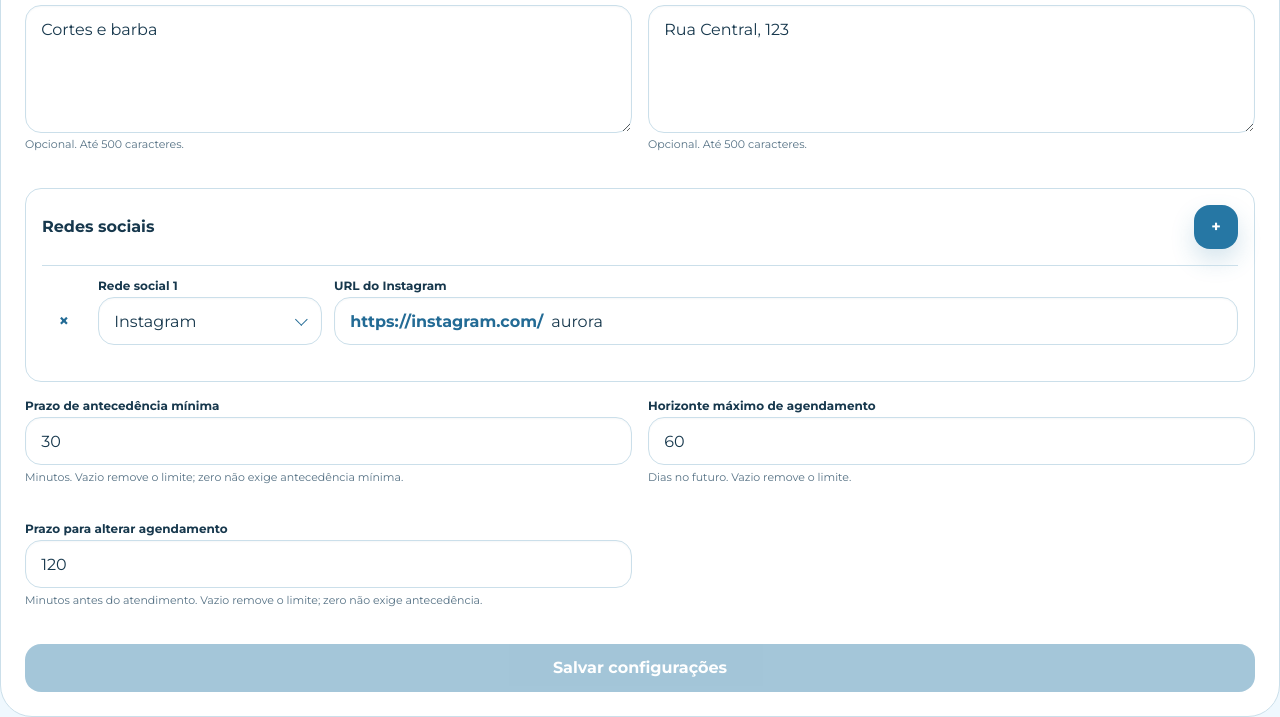
valida limite inteiro e URL HTTPS antes de enviar
(page scrolled)
Check: the text box labelled "Descrição" is shown, box [25,4,632,132]
Replace the text in the number field labelled "Horizonte máximo de agendamento" with "0" at (952, 441), box [648,417,1255,465]
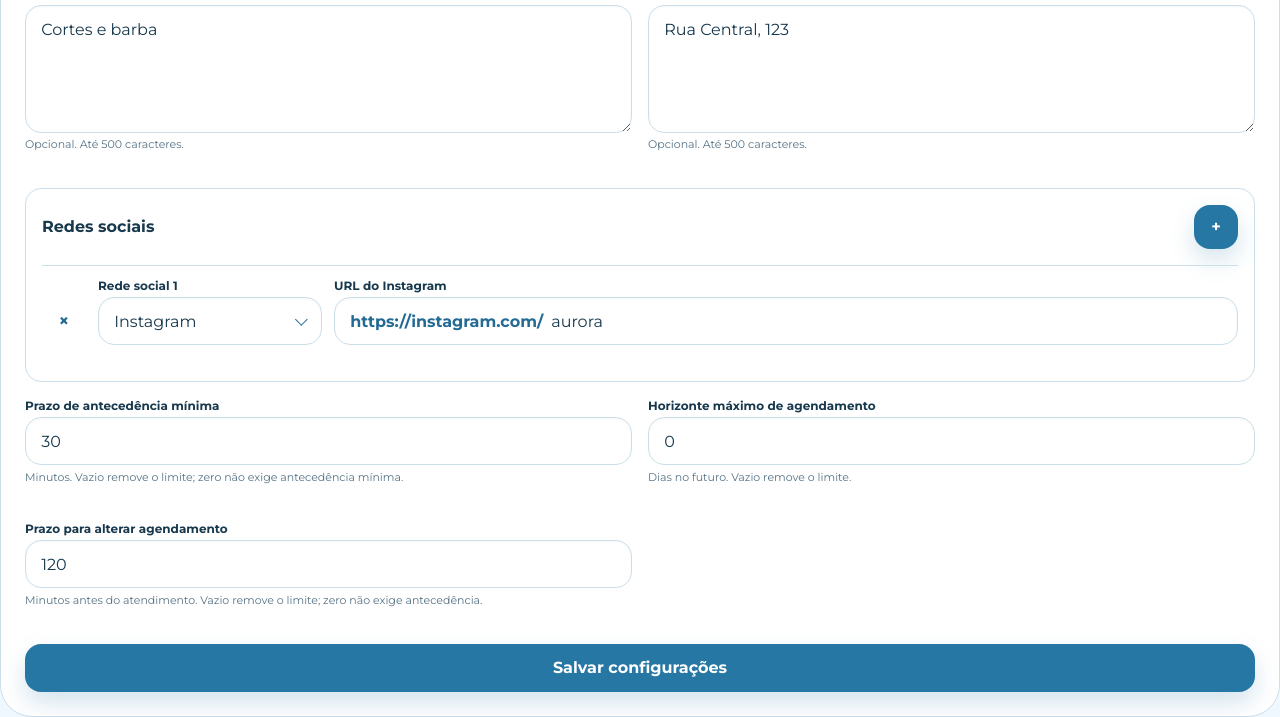
Clear the field labelled "URL do Instagram" at (890, 321), box [543,298,1237,344]
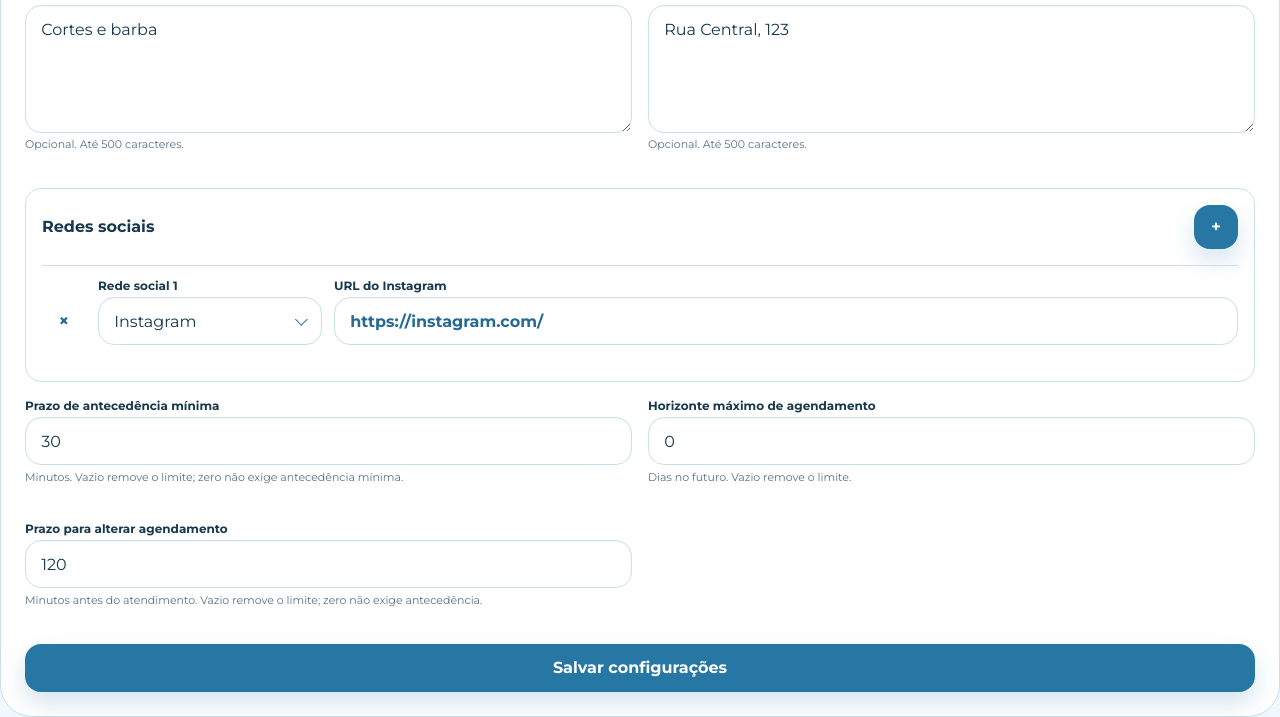
Click the button "Salvar configurações" at (640, 668), box [25,644,1255,692]
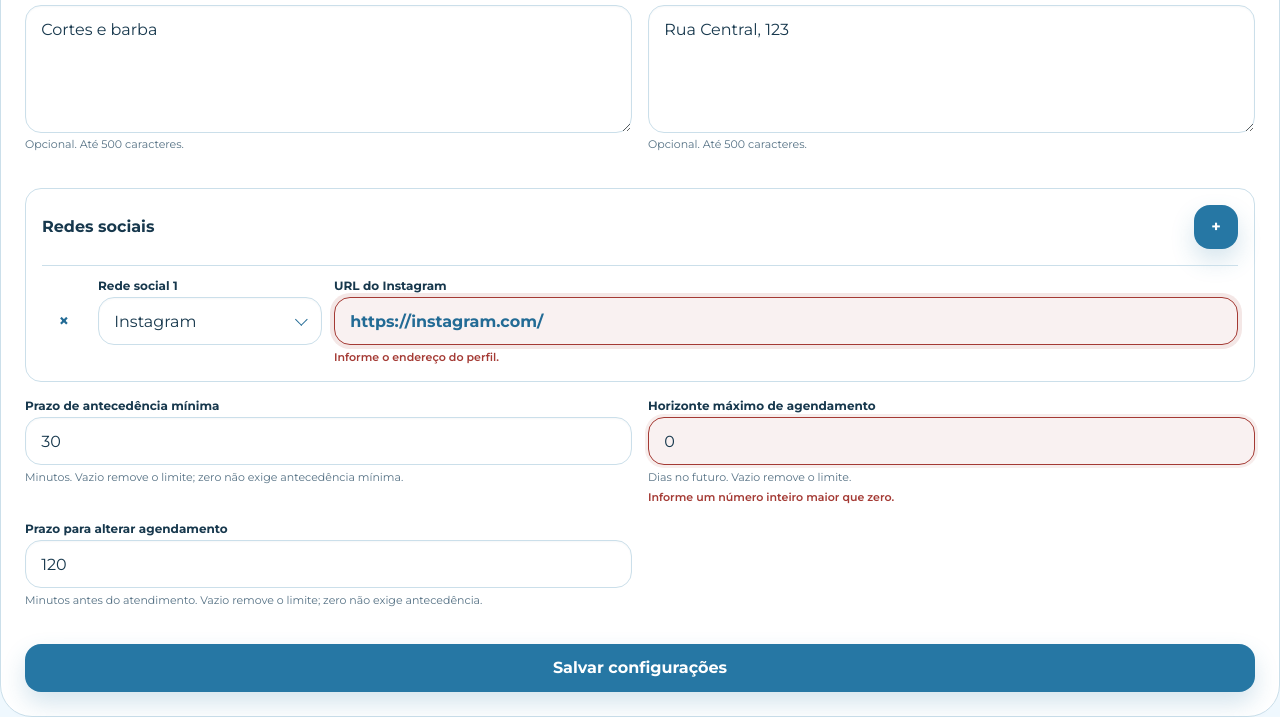
Check: the text "Informe um número inteiro maior que zero." is shown, box [648,490,894,504]
Check: the text "Informe o endereço do perfil." is shown, box [334,350,499,364]
